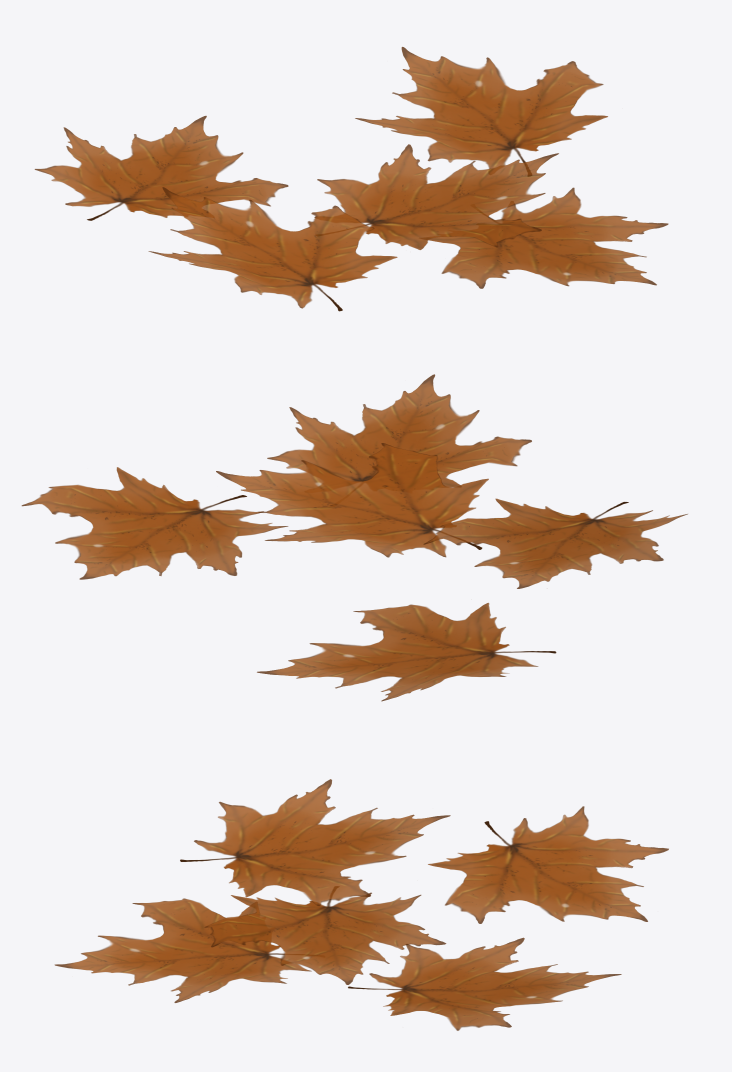
Rendered from leaves.glb.
3 views of the same model, one above another, from view 1: azimuth 30°, elevation 25°; view 2: azimuth 150°, elevation 25°; view 3: azimuth 270°, elevation 25° (orthographic). The views are drawn at different scales.
Parts seen in each view (by area): view 1: pPlane2, pPlane4, pPlane6, pPlane3, pPlane5; view 2: pPlane6, pPlane2, pPlane3, pPlane5, pPlane4; view 3: pPlane4, pPlane3, pPlane5, pPlane6, pPlane2.
Part boxes in pixels (<box>): pPlane2: <box>355,47,607,176</box>; pPlane4: <box>148,187,397,311</box>; pPlane6: <box>314,144,558,249</box>; pPlane3: <box>34,116,288,220</box>; pPlane5: <box>419,187,668,288</box>; pPlane6: <box>216,443,488,557</box>; pPlane2: <box>21,467,287,579</box>; pPlane3: <box>257,603,556,701</box>; pPlane5: <box>267,374,531,487</box>; pPlane4: <box>423,498,687,588</box>; pPlane4: <box>180,779,450,905</box>; pPlane3: <box>428,806,668,923</box>; pPlane5: <box>54,898,311,1002</box>; pPlane6: <box>204,887,446,984</box>; pPlane2: <box>348,937,621,1030</box>.
Size of the model in its own units: 0.2716 by 0.0309 by 0.2835.
1 material, 1 textured.
